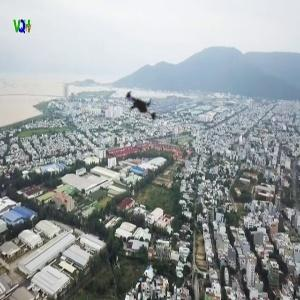drone: (105, 66, 181, 142)
